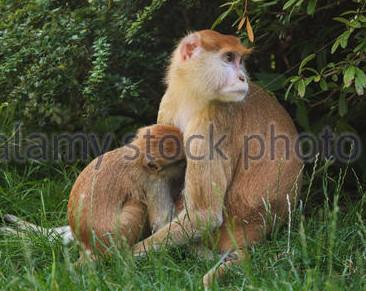monkey: (68, 29, 303, 288)
